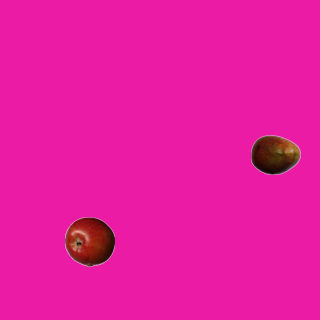Apple Braeburn: (64, 216, 114, 266)
Mango Red: (250, 129, 300, 179)
